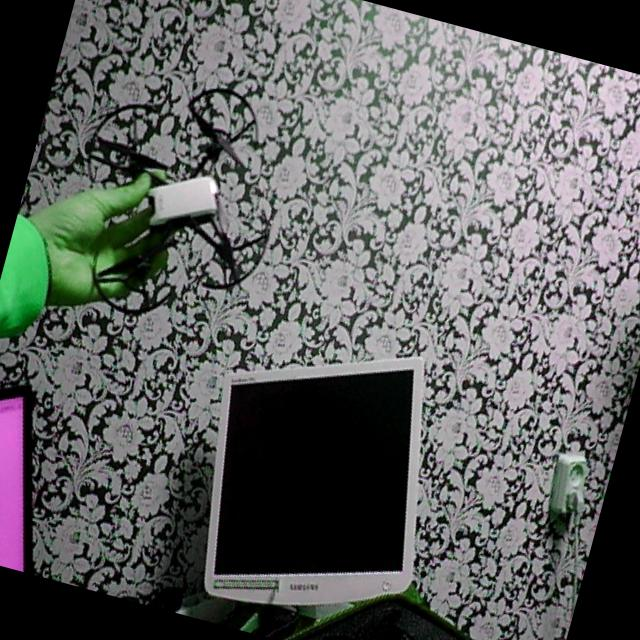drone: (40, 42, 309, 350)
